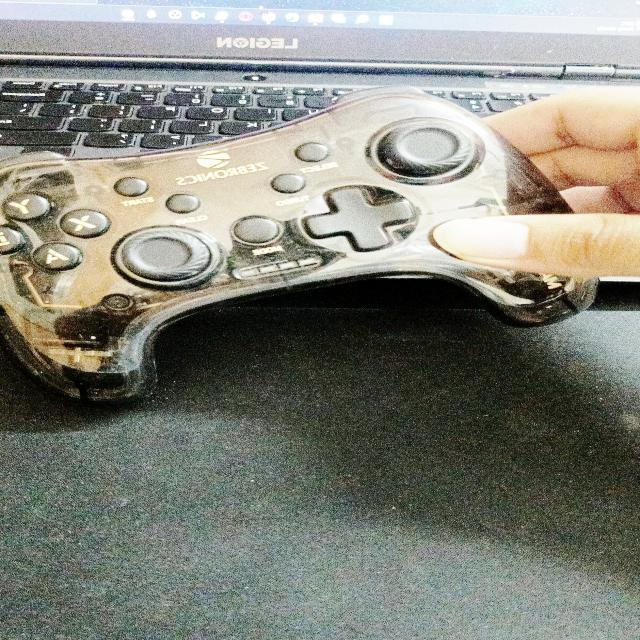gamepad: (0, 85, 602, 405)
